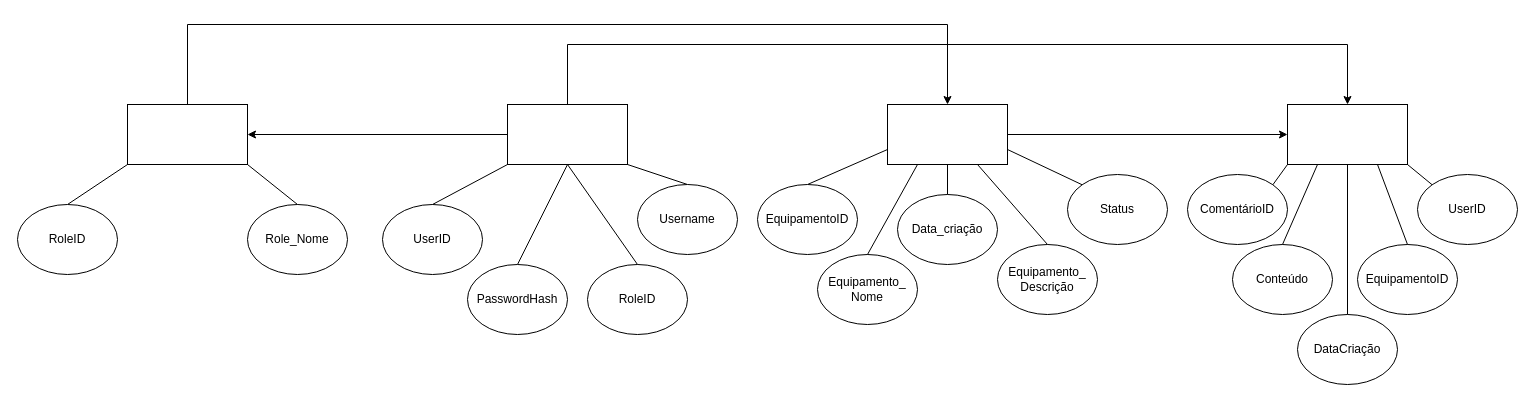
This 1535x402 diagram has some shape labels left out. Each missing label, with the centre of its shape:
Comentário: the point at 1347,134
Equipamento: the point at 947,134
Role: the point at 187,134
Usuário: the point at 567,134
